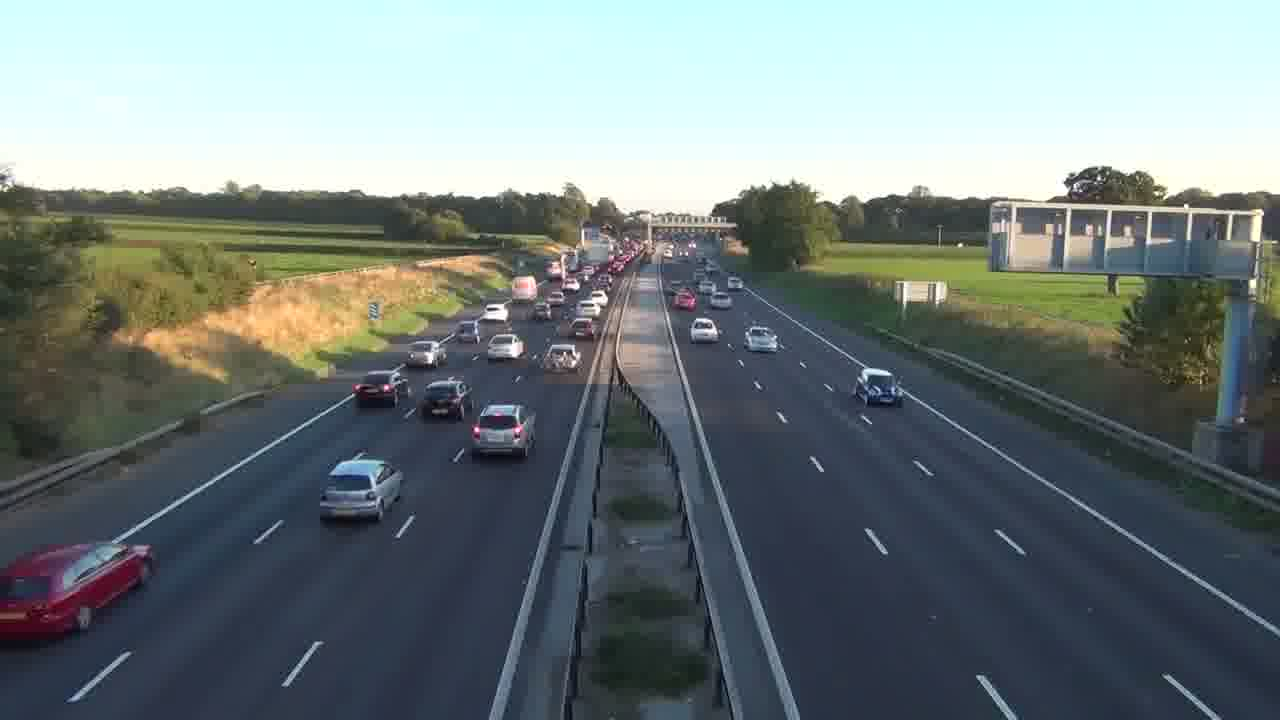car: (319, 457, 404, 521), (470, 402, 536, 458), (420, 378, 470, 420), (855, 367, 902, 407), (406, 339, 444, 368), (487, 333, 525, 361), (744, 325, 779, 352), (689, 317, 722, 344), (707, 292, 733, 309)
truck: (0, 541, 159, 641)
